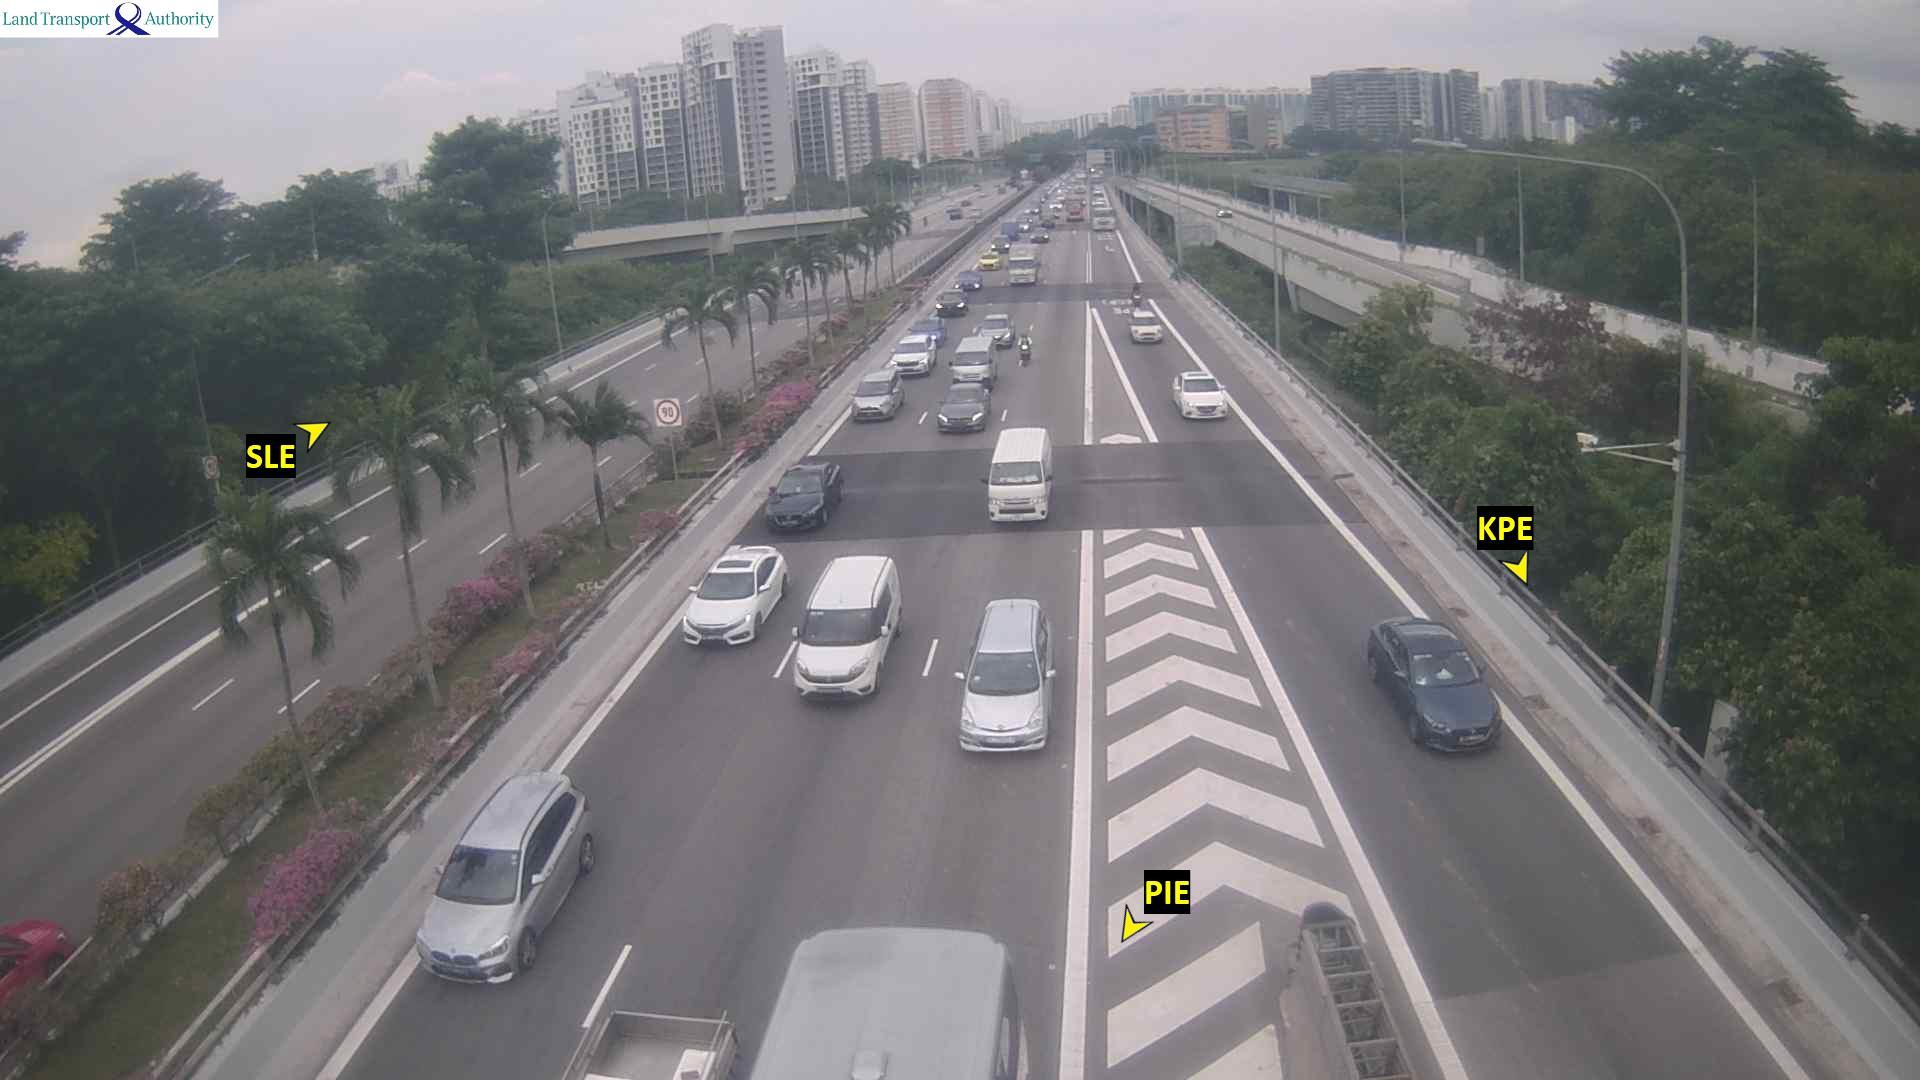cars: (414, 767, 595, 985), (1365, 615, 1502, 753), (790, 553, 902, 702), (956, 596, 1055, 753), (680, 542, 789, 646), (982, 425, 1054, 524), (0, 916, 70, 1004), (764, 460, 843, 531), (849, 367, 905, 421), (935, 380, 989, 433), (1171, 369, 1228, 419), (947, 334, 997, 388), (887, 334, 935, 377), (971, 311, 1015, 348), (1127, 307, 1163, 343), (907, 315, 945, 345), (1006, 251, 1039, 285), (934, 287, 967, 316), (976, 245, 1002, 270), (953, 268, 982, 290), (1025, 225, 1054, 248), (1092, 210, 1116, 229), (1065, 200, 1085, 222)
motorcycle: (1019, 328, 1033, 372), (1131, 277, 1143, 306)
trucks: (746, 923, 1027, 1077)
